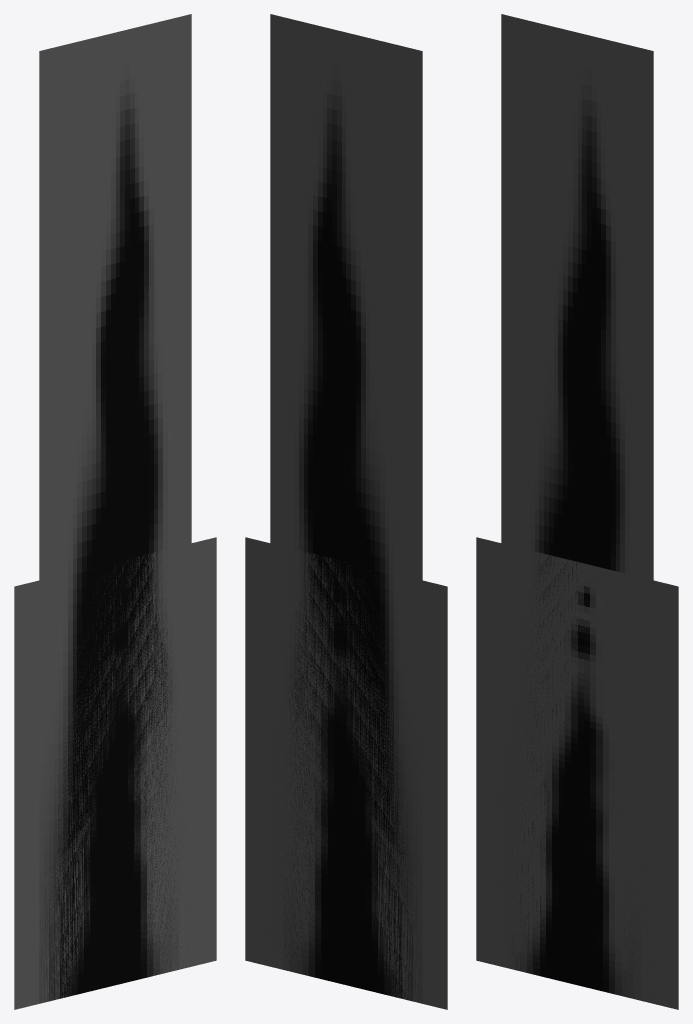
Rendered from sfx_ct0125_always02.glb.
3 views of the same model, side by side, from view 1: azimuth 30°, elevation 25°; view 2: azimuth 150°, elevation 25°; view 3: azimuth 330°, elevation 25° (orthographic).
Parts seen in each view (by area): view 1: sfx_ct0125_always02_obj2, sfx_ct0125_always02_obj1; view 2: sfx_ct0125_always02_obj2, sfx_ct0125_always02_obj1; view 3: sfx_ct0125_always02_obj1, sfx_ct0125_always02_obj2.
Boxes of the visible parts, x1,y1,x2,y2 form: sfx_ct0125_always02_obj2: [39, 14, 191, 1003]; sfx_ct0125_always02_obj1: [14, 537, 216, 1009]; sfx_ct0125_always02_obj2: [270, 14, 422, 1003]; sfx_ct0125_always02_obj1: [245, 537, 447, 1009]; sfx_ct0125_always02_obj1: [476, 537, 678, 1009]; sfx_ct0125_always02_obj2: [501, 14, 653, 995].
Bounding box in the file's own units: 0.1358 × 0.6111 × 1.62e-09.
Materials: 2 (2 with a texture image).
